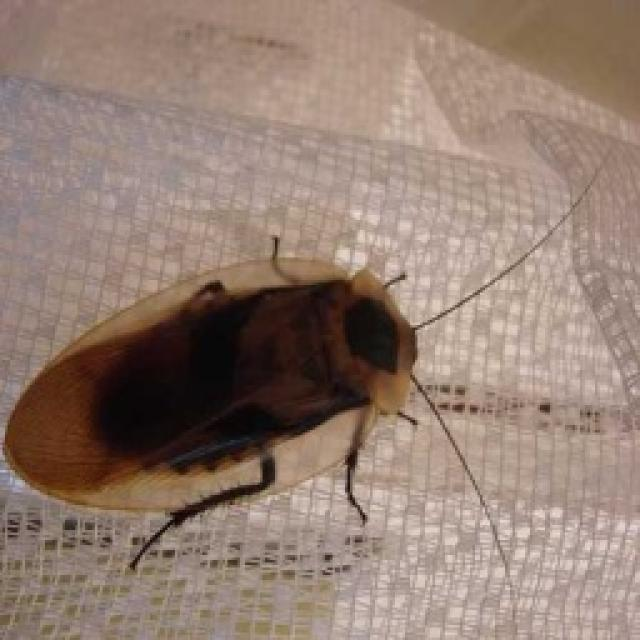cockroach: (0, 219, 498, 570)
